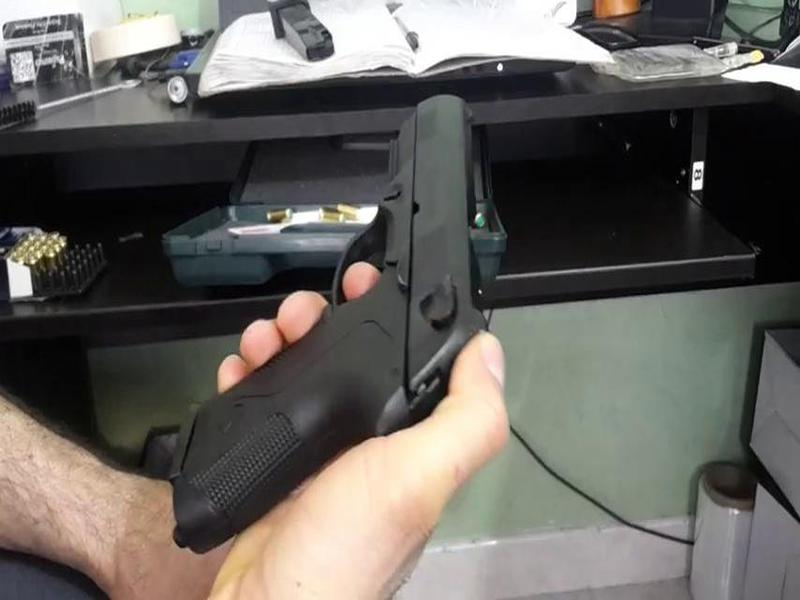Pistola: (176, 90, 516, 528)
